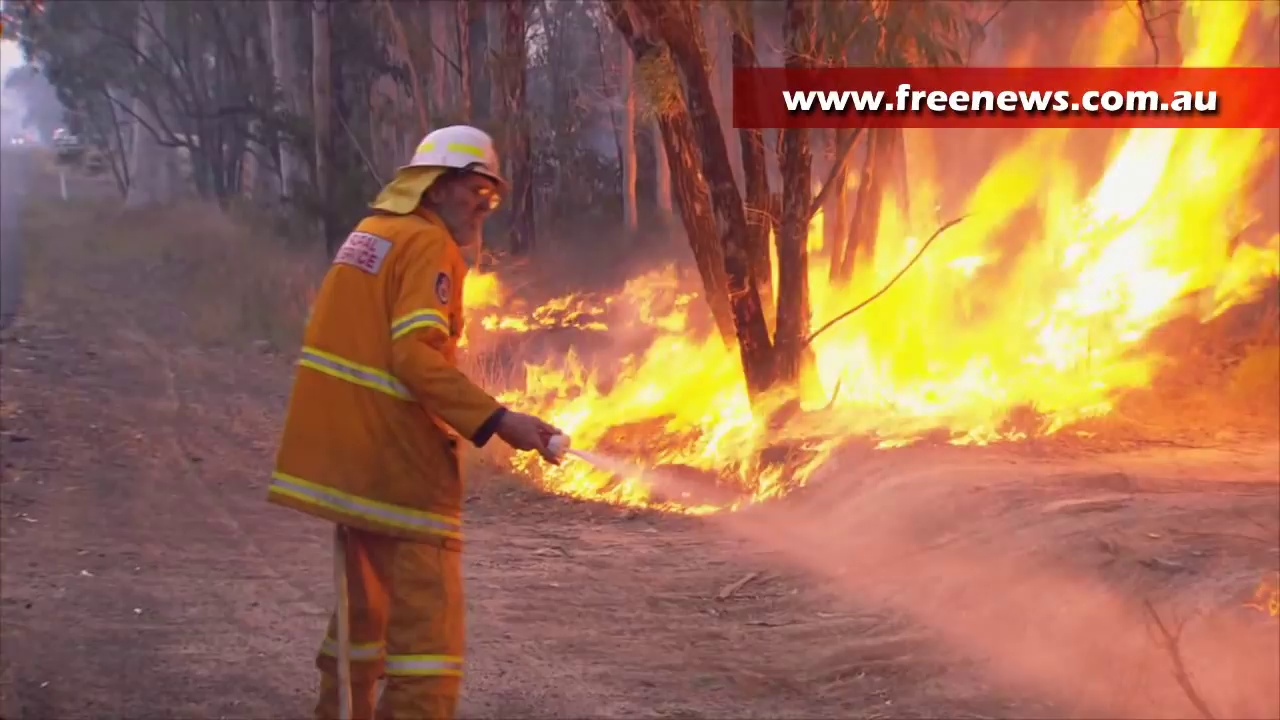fire: (809, 1, 1279, 442), (506, 322, 744, 516), (627, 266, 687, 328), (542, 293, 609, 330), (462, 270, 495, 308)
